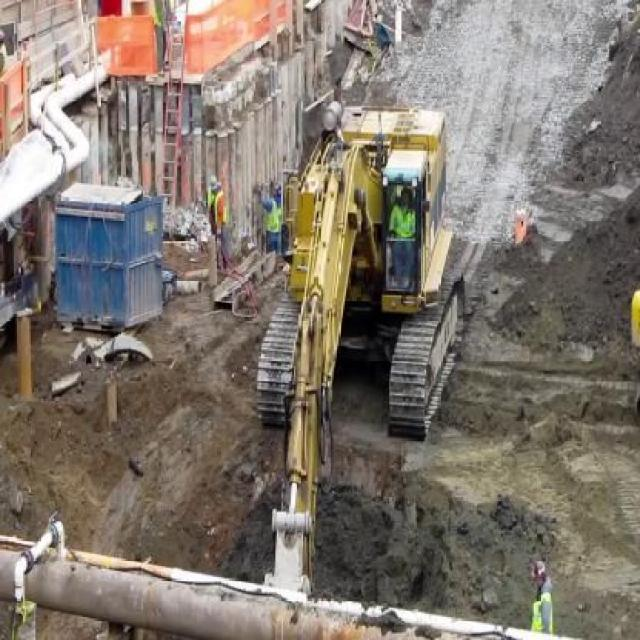Excavator: (256, 98, 464, 639)
